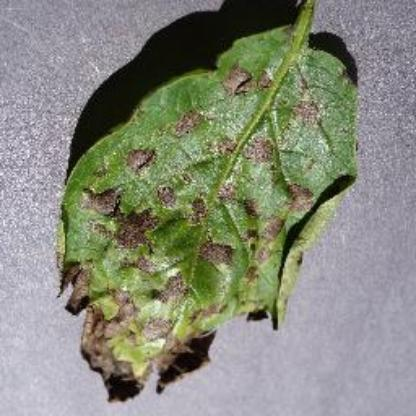Early-Blight: (50, 4, 374, 402)
